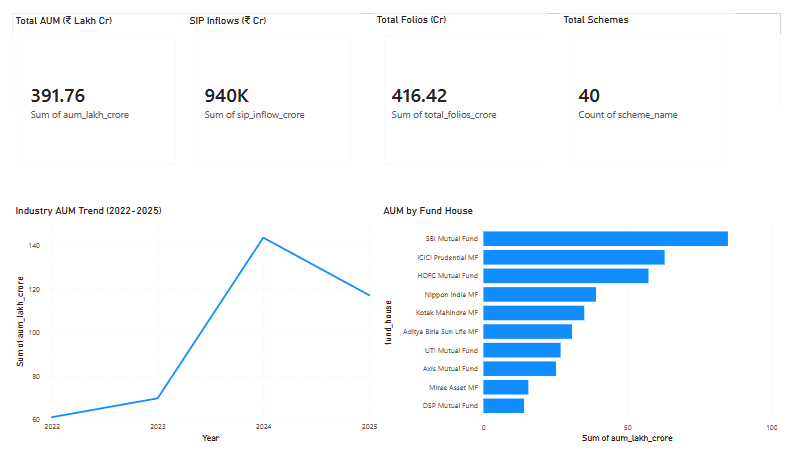

The dashboard page shown, as its layout file describes it:
{"tool":"powerbi","page":{"name":"Industry Overview","canvas":[1280,720],"ordinal":0},"visuals":[{"type":"cardVisual","title":"Total AUM (₹ Lakh Cr)","fields":{"Data":["Sum(03_aum_by_fund_house.aum_lakh_crore)"]},"box":[0,0,290,270],"z":0},{"type":"cardVisual","title":"SIP Inflows (₹ Cr)","fields":{"Data":["Sum(04_monthly_sip_inflows.sip_inflow_crore)"]},"box":[290,0,291.7,270],"z":1000},{"type":"cardVisual","title":"Total Folios (Cr)","fields":{"Data":["Sum(06_industry_folio_count.total_folios_crore)"]},"box":[601.7,0,290,270],"z":2000},{"type":"cardVisual","title":"Total Schemes","fields":{"Data":["Count(01_fund_master.scheme_name)"]},"box":[913.3,0,291.7,270],"z":3000},{"type":"lineChart","title":"Industry AUM Trend (2022-2025)","fields":{"Category":["03_aum_by_fund_house.date.Variation.Date Hierarchy.Year","03_aum_by_fund_house.date.Variation.Date Hierarchy.Quarter","03_aum_by_fund_house.date.Variation.Date Hierarchy.Month","03_aum_by_fund_house.date.Variation.Date Hierarchy.Day"],"Y":["Sum(03_aum_by_fund_house.aum_lakh_crore)"]},"box":[0,318.3,613.3,401.7],"z":4000},{"type":"clusteredBarChart","title":"AUM by Fund House","fields":{"Category":["03_aum_by_fund_house.fund_house"],"Y":["Sum(03_aum_by_fund_house.aum_lakh_crore)"]},"box":[613.1,319.2,666.9,401.5],"z":5000}]}

Visuals, with their boxes in screenshot pixels (x1, y1, x2, y2), scaled from the page's 1280x720 canvas onto the 793x457 screenshot:
"Total AUM (₹ Lakh Cr)" cardVisual: detection(0, 0, 180, 171)
"SIP Inflows (₹ Cr)" cardVisual: detection(180, 0, 360, 171)
"Total Folios (Cr)" cardVisual: detection(373, 0, 552, 171)
"Total Schemes" cardVisual: detection(566, 0, 747, 171)
"Industry AUM Trend (2022-2025)" lineChart: detection(0, 202, 380, 456)
"AUM by Fund House" clusteredBarChart: detection(380, 203, 792, 456)
